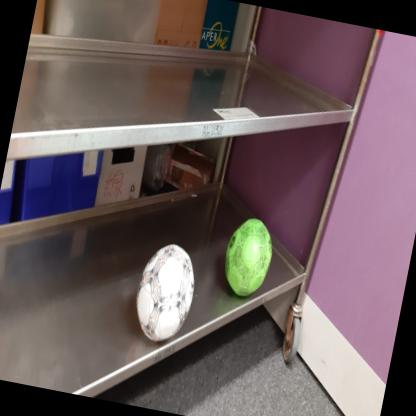ball: (129, 238, 202, 349), (219, 212, 278, 300)
